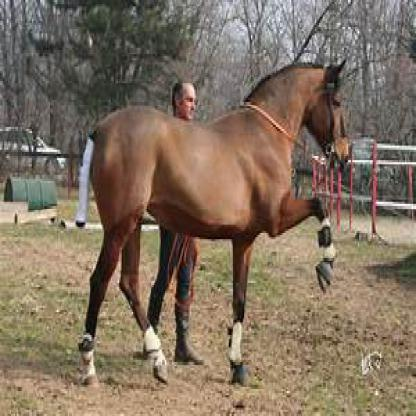horse: (75, 58, 352, 389)
